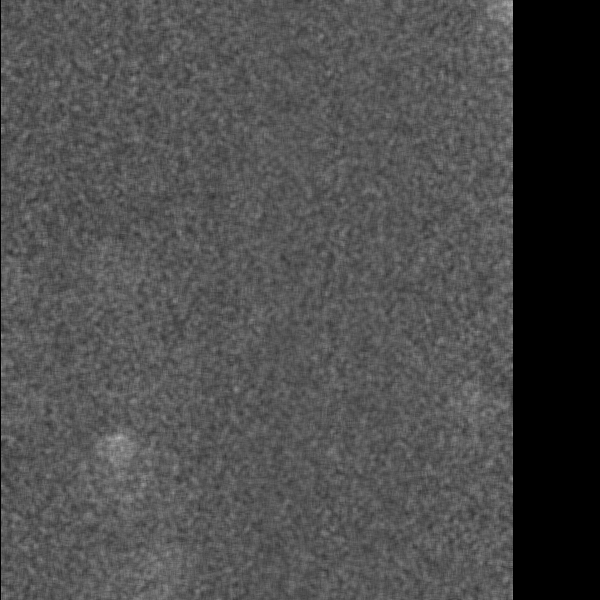spark: (101, 427, 132, 491), (460, 385, 480, 422)
